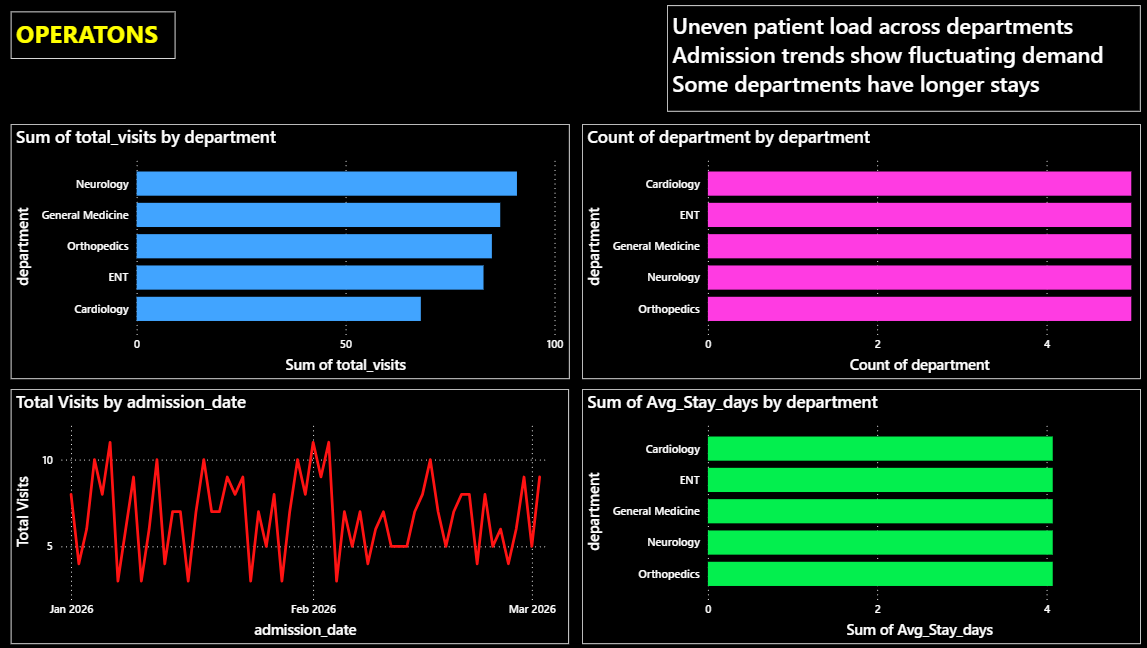

This screenshot's page, from the dashboard's own definition file:
{"tool":"powerbi","page":{"name":"Page 2","canvas":[1280,720],"ordinal":1},"visuals":[{"type":"clusteredBarChart","fields":{"Category":["Department_Load.department"],"Y":["Sum(Department_Load.total_visits)"]},"box":[26.1,142.7,613.4,279.9],"z":0},{"type":"clusteredBarChart","fields":{"Y":["CountNonNull(Department_Load.department)"],"Category":["Patient Visit Details.department"]},"box":[653.2,142.7,613.4,279.9],"z":1000},{"type":"lineChart","fields":{"Y":["Avg_Stay_Days.Total Visits"],"Category":["Patient Visit Details.admission_date"]},"box":[26,433,613,280],"z":2000},{"type":"clusteredBarChart","fields":{"Category":["Patient Visit Details.department"],"Y":["Sum(Avg_Stay_Days.Avg_Stay_days)"]},"box":[653.2,433.6,613.4,279.9],"z":3000},{"type":"textbox","box":[26.1,19.2,181.1,52.1],"z":3001},{"type":"textbox","box":[746.5,12.3,520.1,116.6],"z":3002}]}

Visuals, with their boxes in screenshot pixels (x1, y1, x2, y2), scaled from the page's 1280x720 canvas onto the 1147x648 screenshot:
clusteredBarChart - Department_Load.department x Sum(Department_Load.total_visits): rect(23, 128, 573, 380)
clusteredBarChart - CountNonNull(Department_Load.department) x Patient Visit Details.department: rect(585, 128, 1135, 380)
lineChart - Avg_Stay_Days.Total Visits x Patient Visit Details.admission_date: rect(23, 390, 573, 642)
clusteredBarChart - Patient Visit Details.department x Sum(Avg_Stay_Days.Avg_Stay_days): rect(585, 390, 1135, 642)
textbox: rect(23, 17, 186, 64)
textbox: rect(669, 11, 1135, 116)
